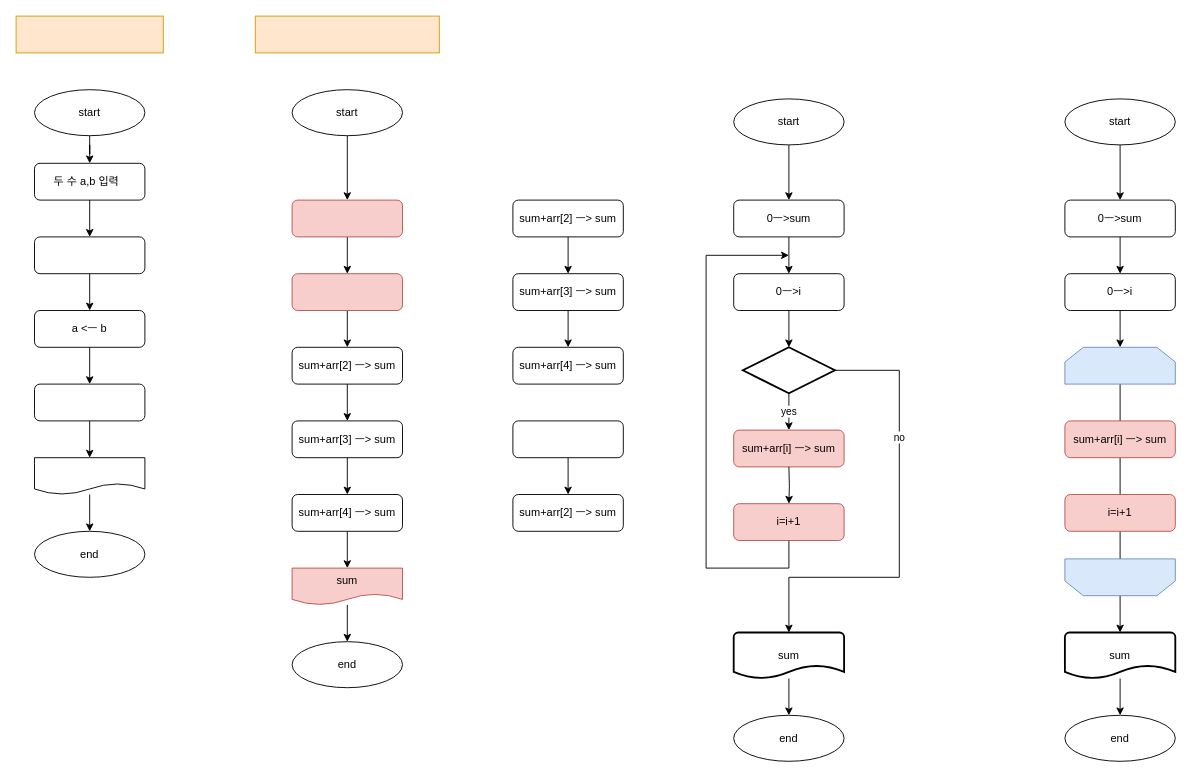
Some shapes in this 1192 by 777 pixel diagram are drawn without their labels. The shapes that lost their labels are listed below. From the top down, each one's box as (x1, y1, x2, y2) in pixels, then its label:
(15, 15, 163, 53): 두 변수의 데이터 교환
(254, 15, 439, 53): 합계값을 계산하는 프로그램
(291, 199, 402, 237): arr[0] ㅡ> sum
(34, 236, 145, 274): t <ㅡ a
(291, 273, 402, 310): sum+arr[1] ㅡ> sum
(742, 346, 835, 394): i < len(arr)
(1064, 346, 1175, 384): i<len()
(34, 383, 145, 421): b <ㅡ t
(512, 420, 623, 458): 첨자 하나 증가
(34, 457, 145, 494): a,b 출력
